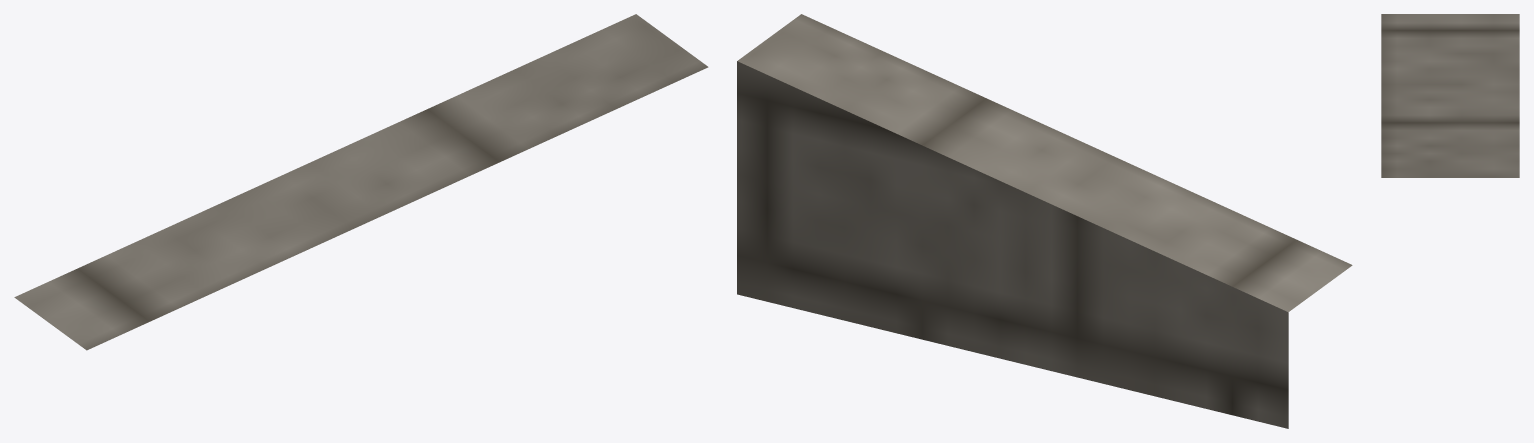
Rendered from tunel_silnicni_zed_1.glb.
The picture shows the model from 3 angles, left to right: view 1: azimuth 30°, elevation 25°; view 2: azimuth 150°, elevation 25°; view 3: azimuth 270°, elevation 25°; orthographic projection. The views are drawn at different scales.
Parts seen in each view (by area): view 1: tunel_silnicni_zed_1; view 2: tunel_silnicni_zed_1; view 3: tunel_silnicni_zed_1.
Boxes of the visible parts, <box> form: tunel_silnicni_zed_1: <box>14,14,708,350</box>; tunel_silnicni_zed_1: <box>737,14,1352,428</box>; tunel_silnicni_zed_1: <box>1381,14,1519,177</box>.
Size of the model in its own units: 4.95 by 2 by 1.
1 material, 1 textured.
